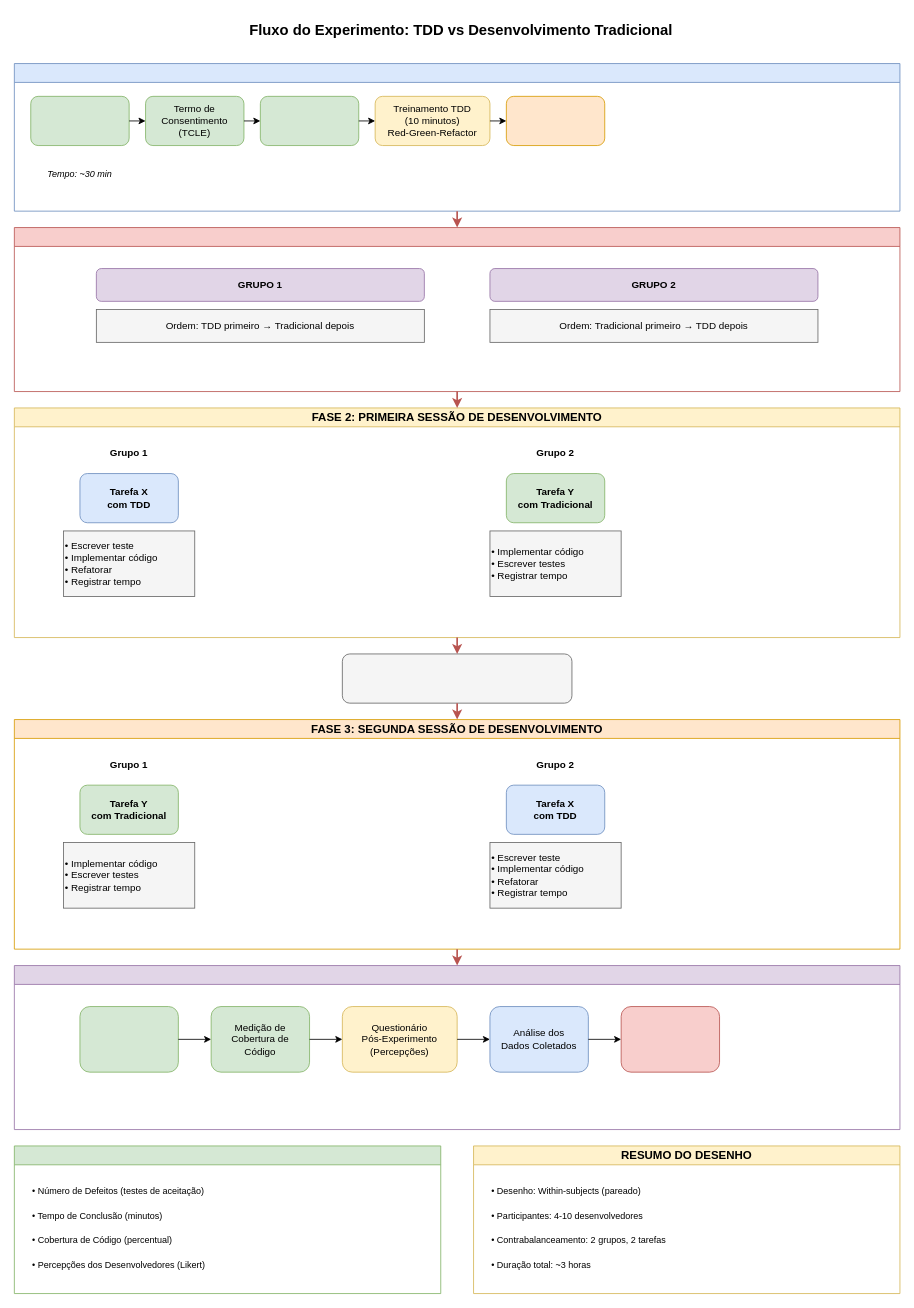
This 914x1308 diagram has some shape labels left out. The shapes that lost their labels are listed below. From the top down, each one's box as (x1, y1, x2, y2) in pixels, then its label:
(30, 96, 129, 146): Recepção dos Participantes
(260, 96, 359, 146): Questionário de Caracterização
(14, 63, 900, 211): FASE 1: PREPARAÇÃO
(506, 96, 605, 146): Randomização em 2 Grupos
(14, 227, 900, 392): DIVISÃO EM GRUPOS (Contrabalanceamento)
(342, 653, 572, 703): INTERVALO ENTRE SESSÕES
(79, 1006, 178, 1072): Execução dos Testes de Aceitação
(14, 965, 900, 1130): FASE 4: COLETA DE DADOS E ENCERRAMENTO
(620, 1006, 720, 1072): Encerramento
(14, 1145, 441, 1294): MÉTRICAS COLETADAS
